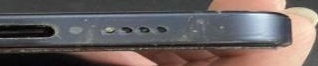scratch: (113, 5, 308, 56), (0, 12, 108, 49)
